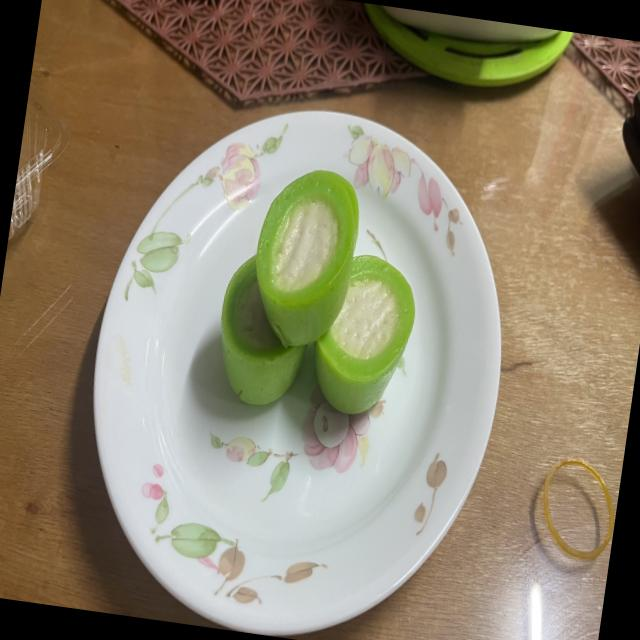nona-manis: (256, 170, 359, 347), (315, 255, 415, 415), (221, 257, 306, 406)
